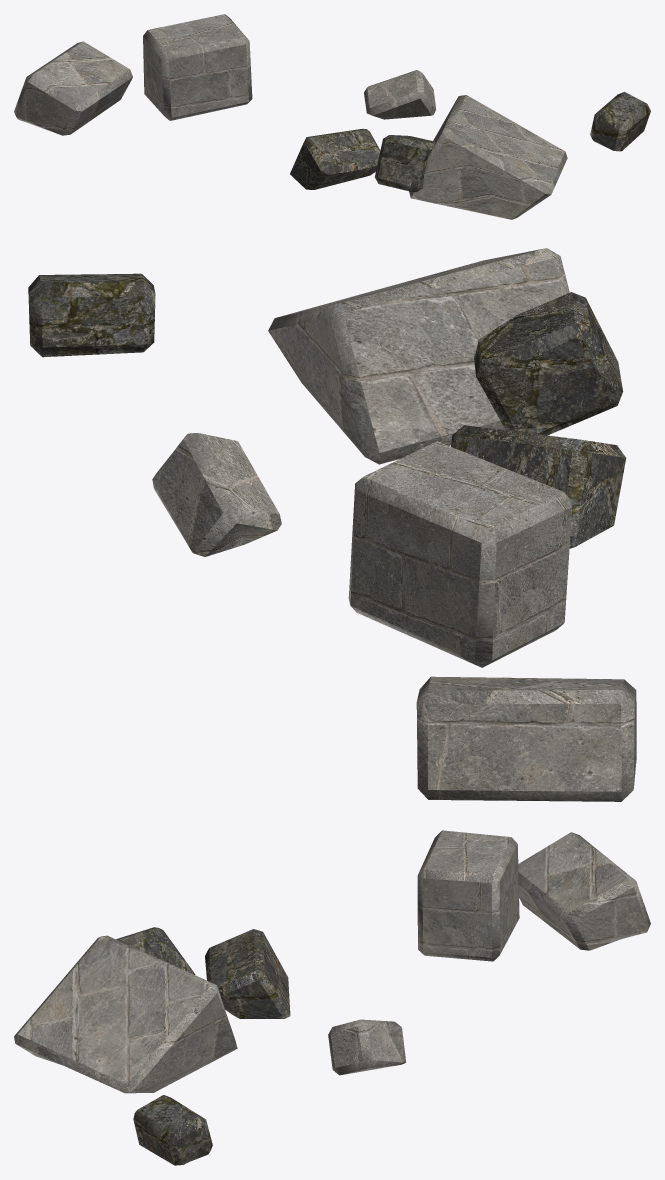
File: scattered-blocks-v01.glb
3 renders of one model, top to bottom at view 1: azimuth 30°, elevation 25°; view 2: azimuth 150°, elevation 25°; view 3: azimuth 270°, elevation 25°, orthographic. The views are drawn at different scales.
Parts seen in each view (by area): view 1: scattered-blocks; view 2: scattered-blocks; view 3: scattered-blocks.
Boxes of the visible parts, x1,y1,x2,y2 form: scattered-blocks: (14,14,650,219); scattered-blocks: (28,248,636,801); scattered-blocks: (14,830,650,1165).
Size of the model in its own units: 2.84 by 0.5499 by 2.71.
Materials: 2 (2 with a texture image).
